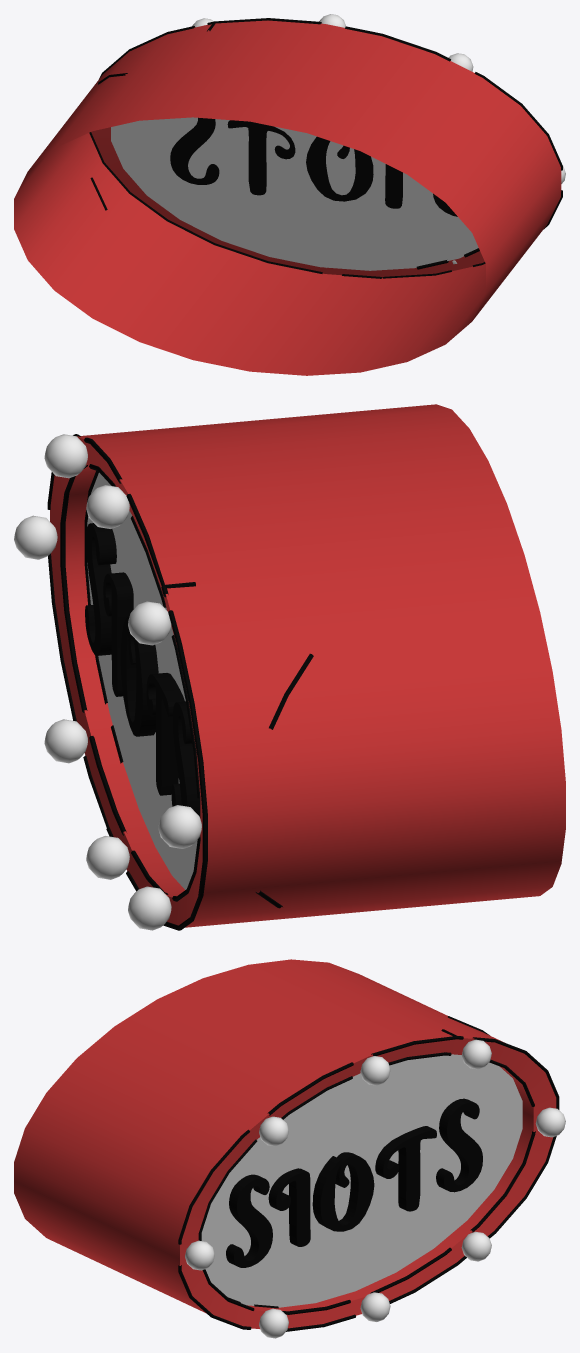
File: SlotsSign.fbx
3 views of the same model, one above another, from view 1: azimuth 30°, elevation 25°; view 2: azimuth 150°, elevation 25°; view 3: azimuth 270°, elevation 25° (orthographic). The views are drawn at different scales.
Parts seen in each view (by area): view 1: Cube.007; view 2: Cube.007, Cube.004, Cube.010, Cube.014, Cube.020, Cube.015, Cube.029, Cube.011, Cube.018; view 3: Cube.007, Cube.010, Cube.011, Cube.020, Cube.004, Cube.015, Cube.014, Cube.018, Cube.029.
Boxes of the visible parts, <box> form: Cube.007: <box>14,18,562,375</box>; Cube.007: <box>47,404,565,930</box>; Cube.004: <box>44,434,87,478</box>; Cube.010: <box>14,515,57,559</box>; Cube.014: <box>158,805,201,848</box>; Cube.020: <box>44,719,87,763</box>; Cube.015: <box>86,485,129,528</box>; Cube.029: <box>128,886,171,930</box>; Cube.011: <box>86,836,129,879</box>; Cube.018: <box>128,601,171,645</box>; Cube.007: <box>14,959,559,1331</box>; Cube.010: <box>185,1240,214,1270</box>; Cube.011: <box>360,1292,390,1321</box>; Cube.020: <box>259,1308,288,1338</box>; Cube.004: <box>259,1116,288,1146</box>; Cube.015: <box>360,1056,390,1085</box>; Cube.014: <box>535,1107,565,1137</box>; Cube.018: <box>461,1039,491,1069</box>; Cube.029: <box>461,1231,491,1261</box>.
Bounding box in the file's own units: 585 × 316 × 600.
